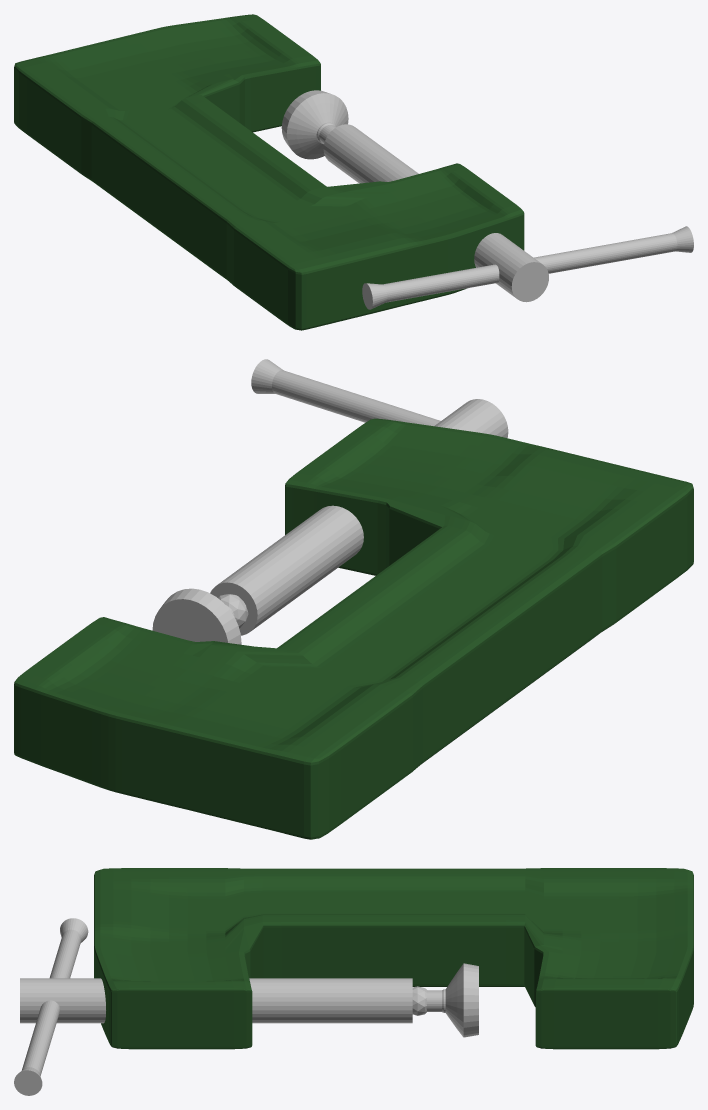
Rendered from ClampGreenScrew.fbx.
3 views of the same model, one above another, from view 1: azimuth 30°, elevation 25°; view 2: azimuth 150°, elevation 25°; view 3: azimuth 270°, elevation 25° (orthographic). The views are drawn at different scales.
Parts seen in each view (by area): view 1: ClampGreenScrew; view 2: ClampGreenScrew; view 3: ClampGreenScrew.
Boxes of the visible parts, left/top/right/bottom form: ClampGreenScrew: left=14, top=14, right=693, bottom=330; ClampGreenScrew: left=14, top=359, right=693, bottom=839; ClampGreenScrew: left=14, top=868, right=693, bottom=1095.
Size of the model in its own units: 18.41 by 28.74 by 3.15.
